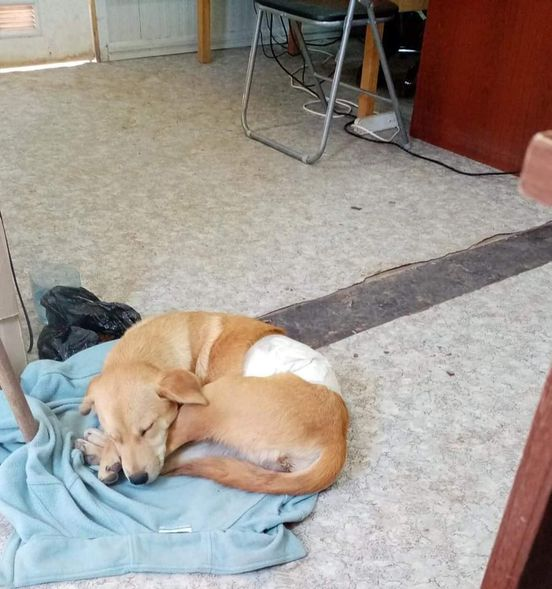dog: (75, 303, 360, 506)
